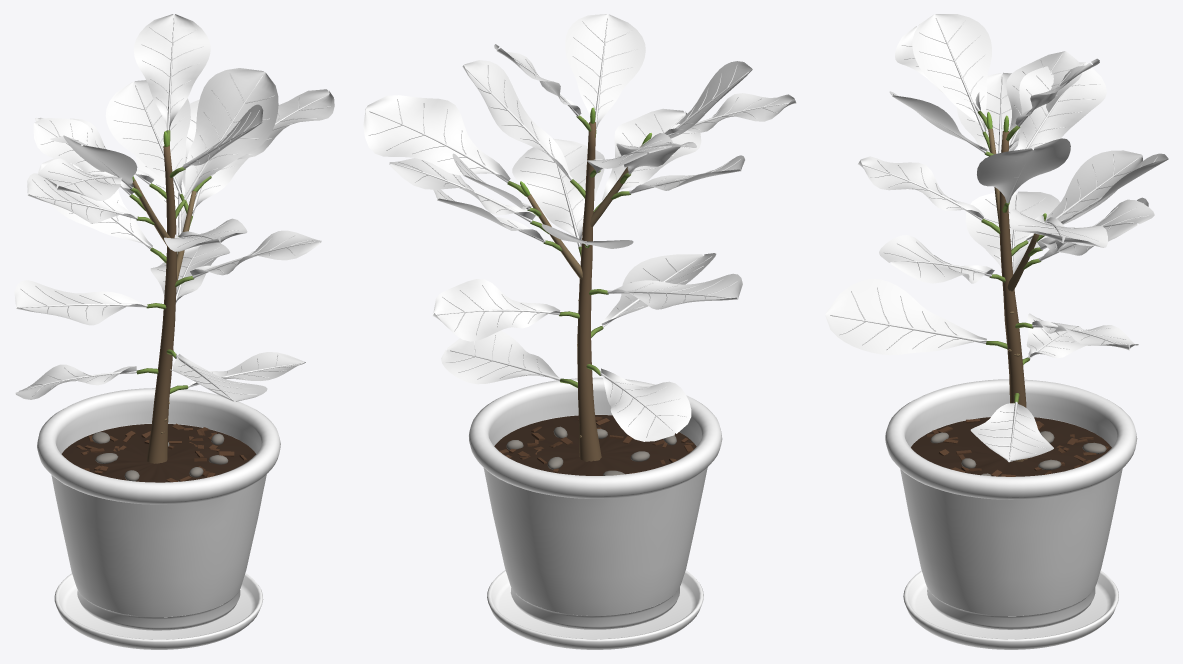
The model's file is pot-grande-plante-ficus-lyrata.glb.
3 renders of one model, left to right at view 1: azimuth 30°, elevation 25°; view 2: azimuth 150°, elevation 25°; view 3: azimuth 270°, elevation 25°, orthographic. The views are drawn at different scales.
Visible parts, largest first — view 1: pot-grande-plante-ficus-lyrata; view 2: pot-grande-plante-ficus-lyrata; view 3: pot-grande-plante-ficus-lyrata.
Boxes of the visible parts, x1,y1,x2,y2 form: pot-grande-plante-ficus-lyrata: (14,14,334,649); pot-grande-plante-ficus-lyrata: (363,14,796,649); pot-grande-plante-ficus-lyrata: (825,14,1168,649).
Size of the model in its own units: 0.8412 by 1.29 by 0.7005.
